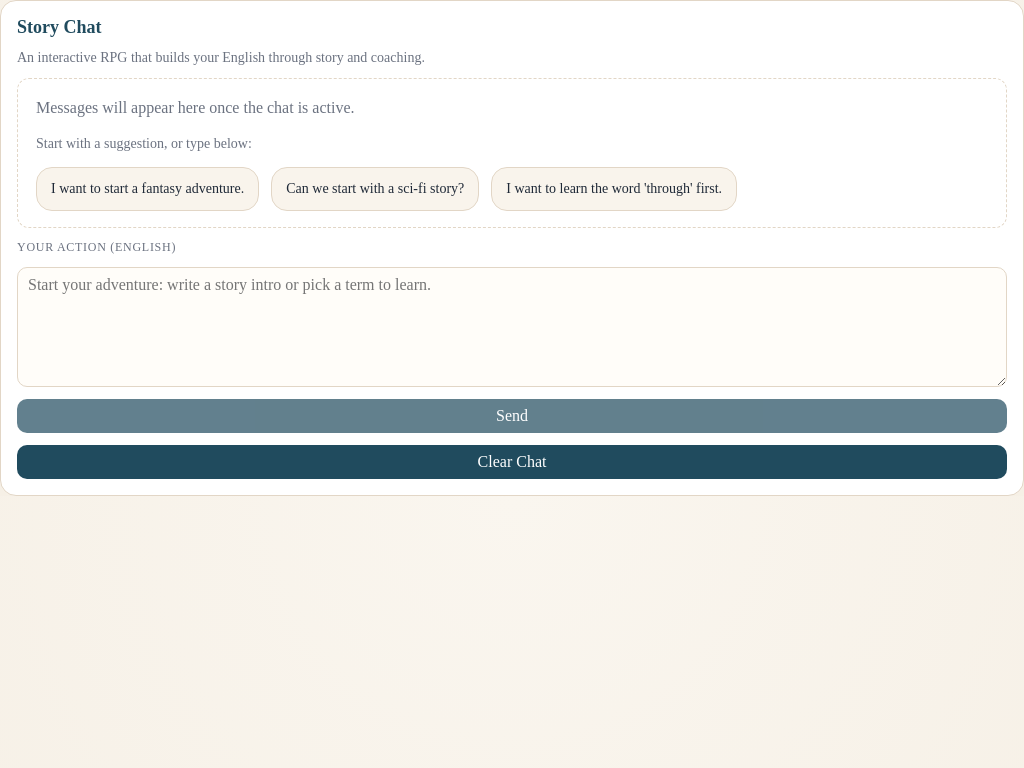
Test: ChatPanel error rendering › shows error bubble and removes last message on failure
Replace the text in the text box labelled "Your Action (English)" with "sk-12345678901234567890" at (512, 327), box [17,267,1007,387]
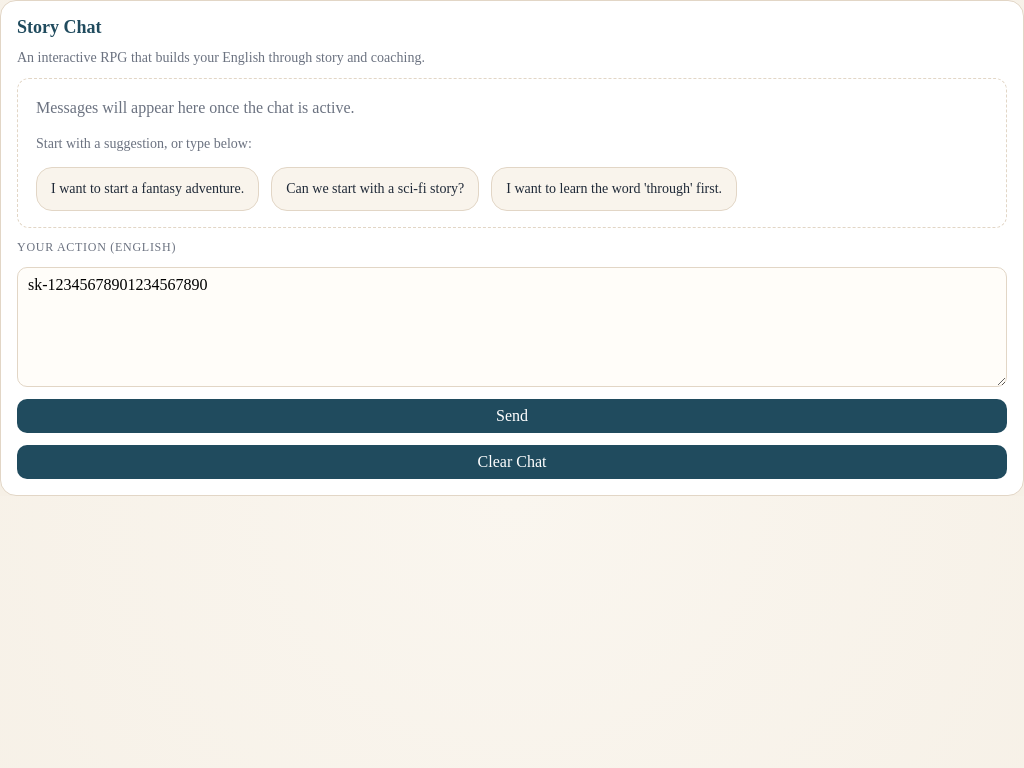
Click the button "Send" at (512, 416), box [17,399,1007,433]
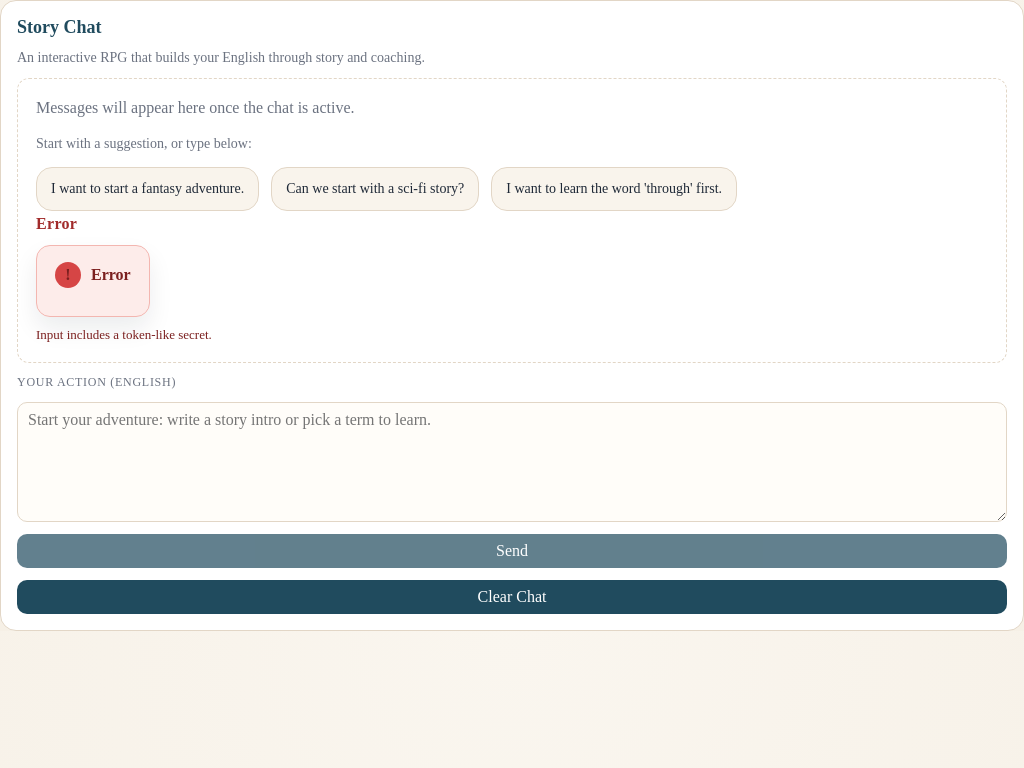
Expected: the 1st text "Error" is shown, [36,211,77,237]
Expected: the text "Input includes a token-like secret." is shown, [36,325,212,346]
